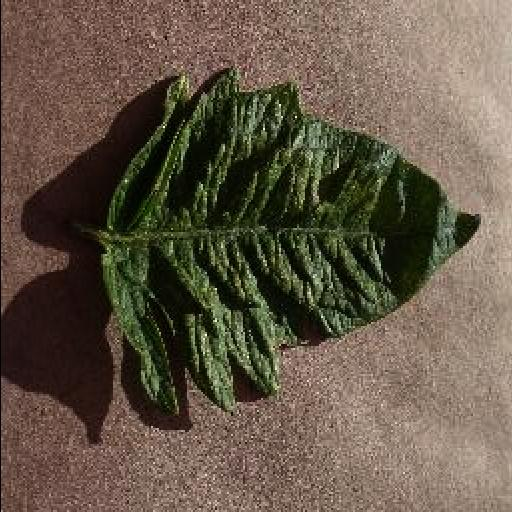disease_tomato: (98, 70, 482, 415)
